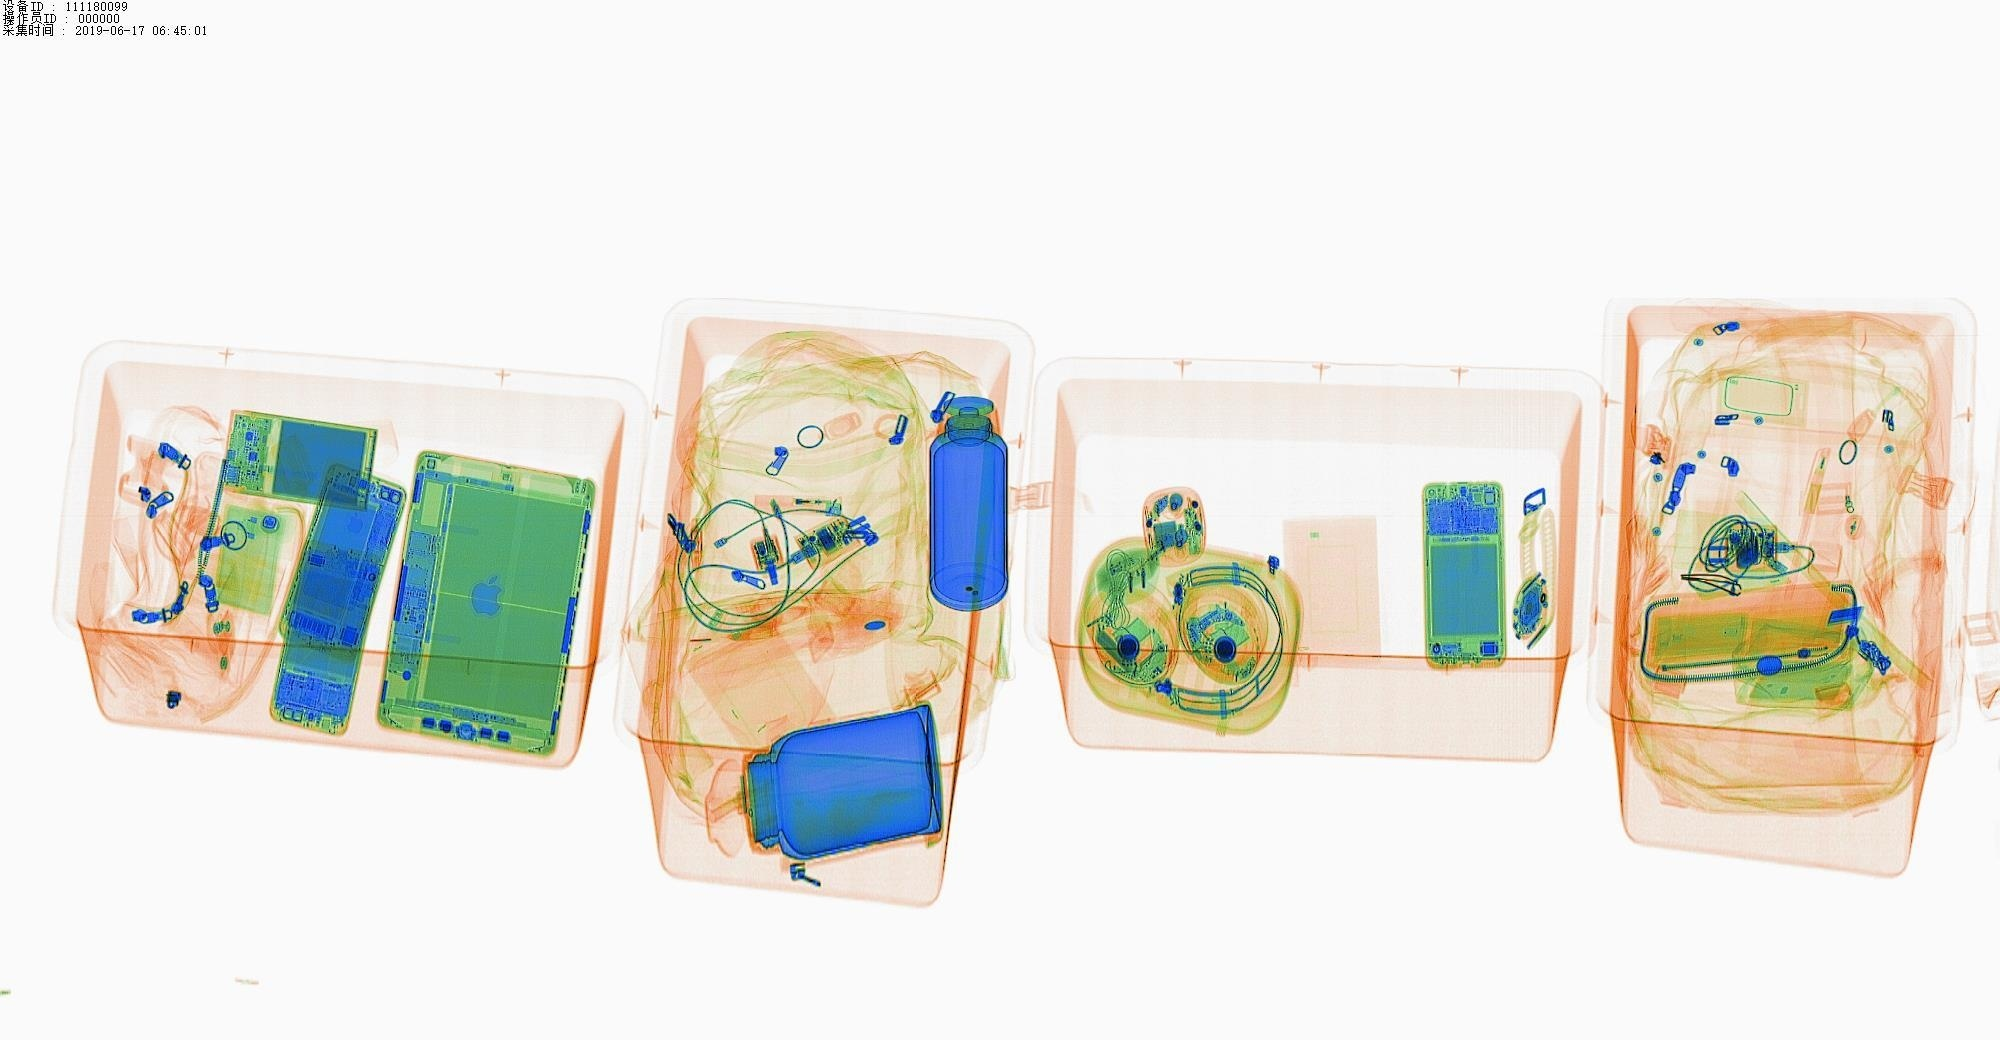NonmetallicFire: (747, 486, 854, 524)
